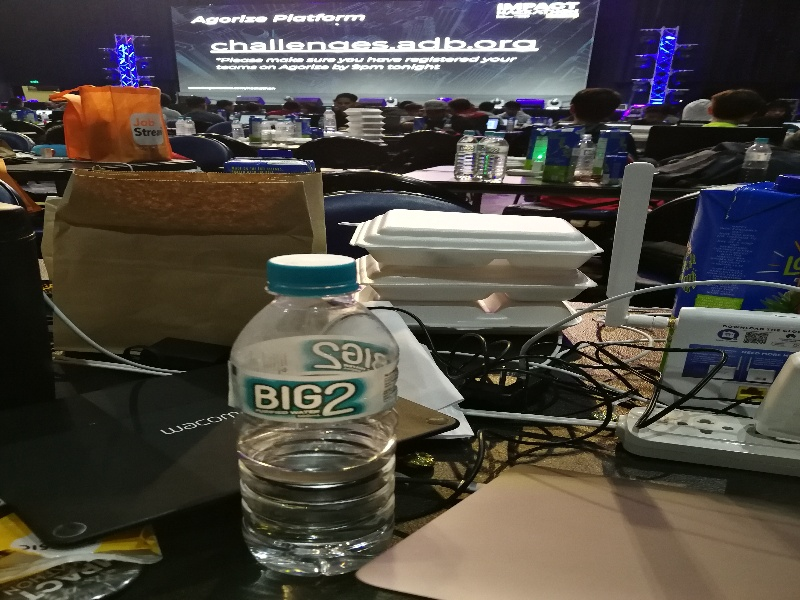PET #1: (231, 247, 400, 581), (451, 125, 479, 185), (569, 133, 600, 186), (740, 136, 771, 185), (486, 127, 510, 187), (317, 101, 337, 135)
